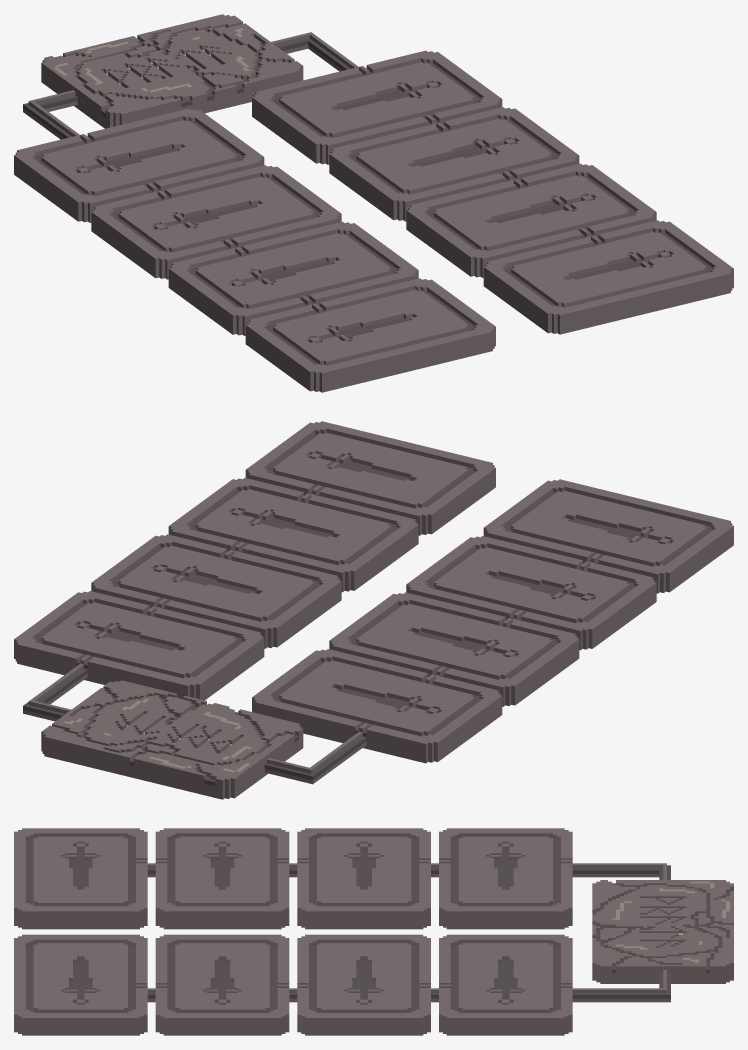
Rendered from game board.obj.
3 views of the same model, one above another, from view 1: azimuth 30°, elevation 25°; view 2: azimuth 150°, elevation 25°; view 3: azimuth 270°, elevation 25° (orthographic). The views are drawn at different scales.
Size of the model in its own units: 11.4 by 0.5 by 18.3.
1 material, 1 textured.
